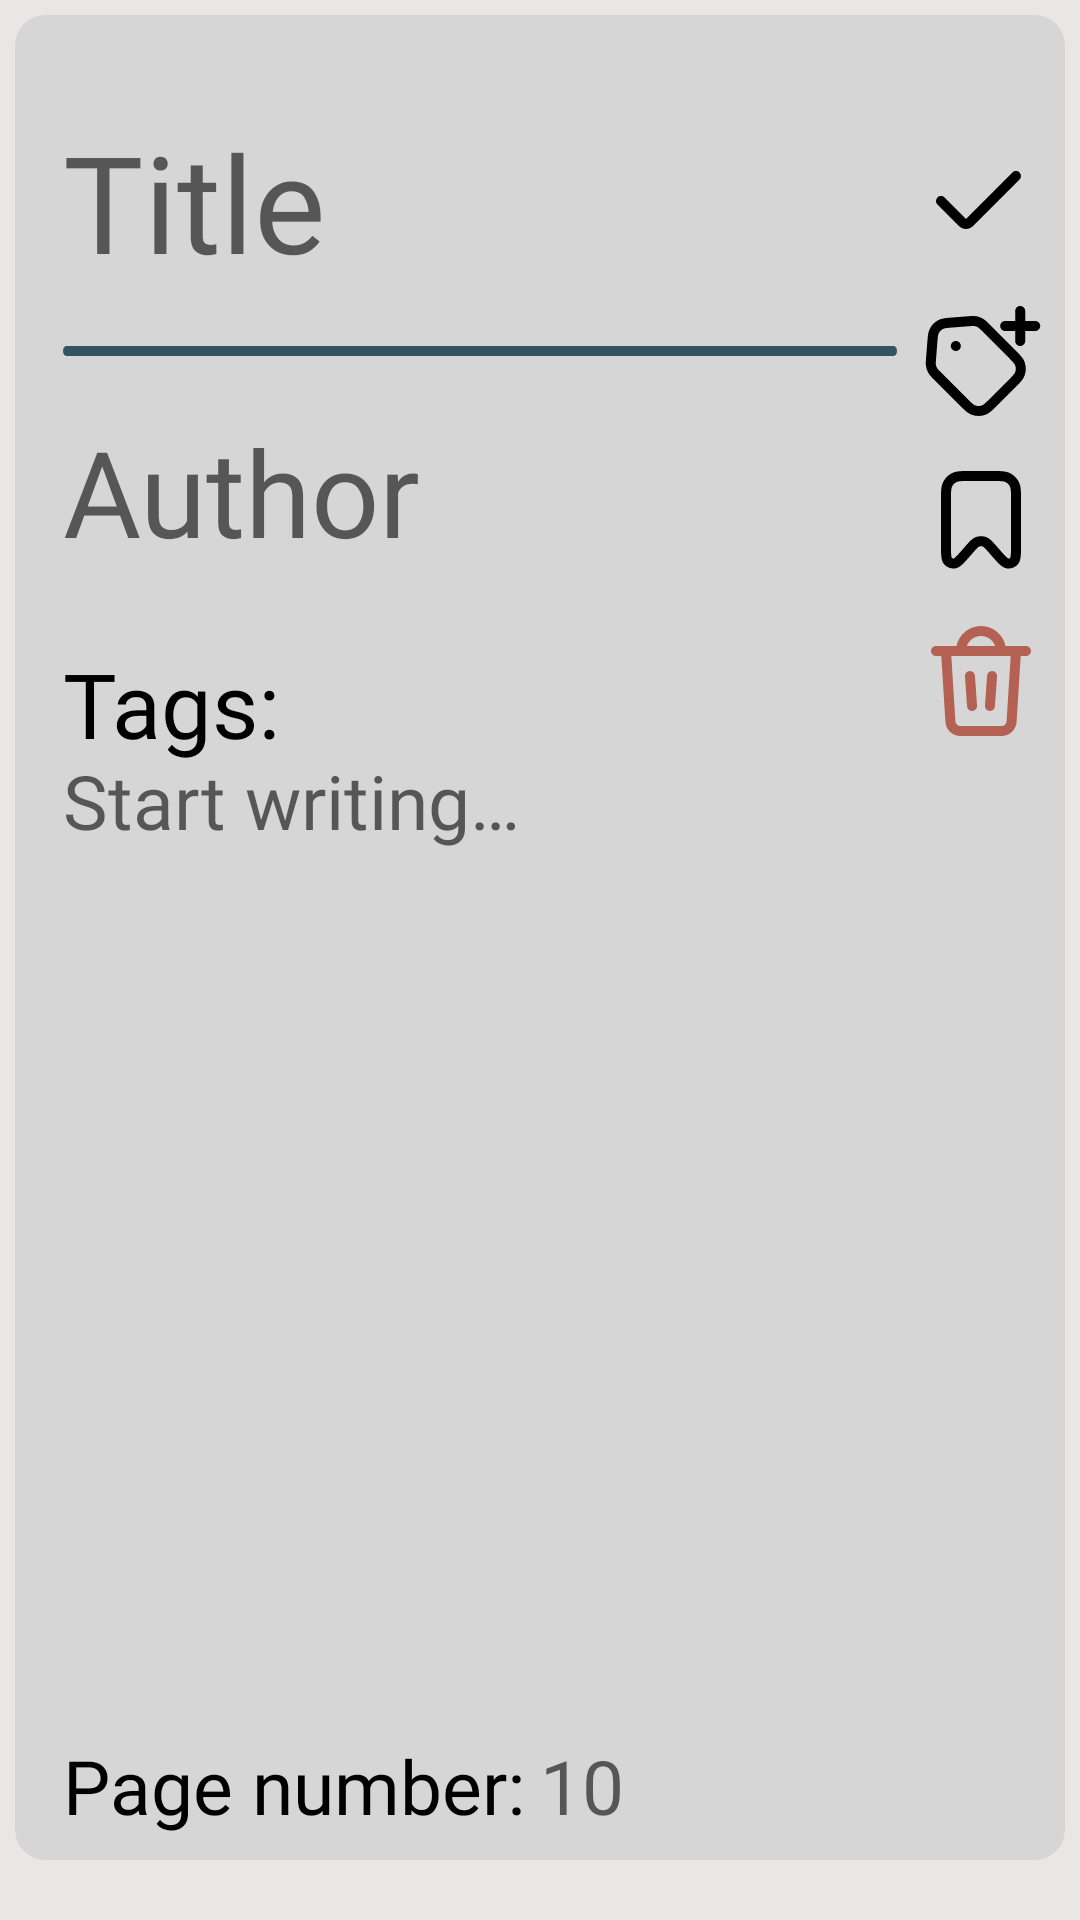

Icon bounding boxes for this 1080×1920 phone screenshot, format (x1, y1, x2, y2):
Icon basket: (931, 626, 1031, 736)
Icon bookmark: (941, 471, 1021, 569)
Icon confirm: (936, 171, 1021, 229)
Icon tag: (925, 306, 1041, 416)
